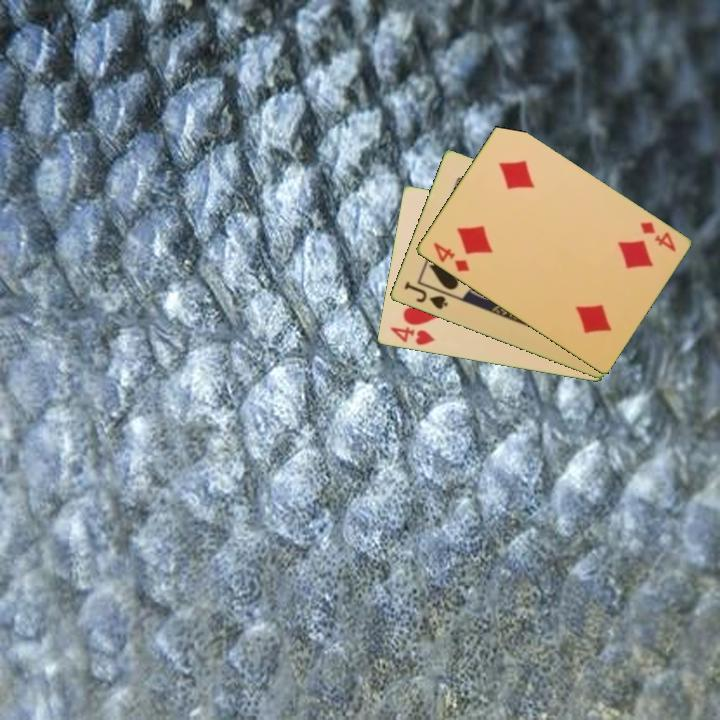4d: (636, 218, 679, 255), (429, 239, 472, 275)
4h: (386, 323, 437, 348)
Js: (400, 278, 451, 313)
